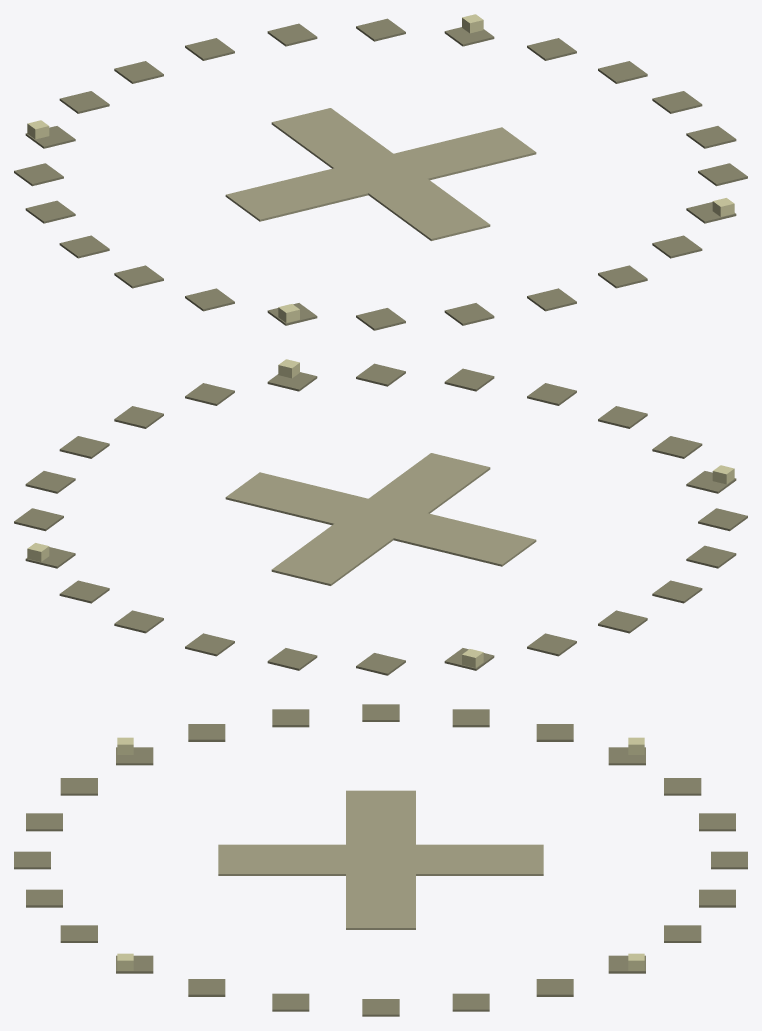
Rendered from lzpad.glb.
3 views of the same model, one above another, from view 1: azimuth 30°, elevation 25°; view 2: azimuth 150°, elevation 25°; view 3: azimuth 270°, elevation 25° (orthographic).
Visible parts, largest first — view 1: lzpad; view 2: lzpad; view 3: lzpad.
Boxes of the visible parts, x1=… form: lzpad: x1=14, y1=14, x2=747, y2=330; lzpad: x1=14, y1=359, x2=747, y2=675; lzpad: x1=14, y1=704, x2=747, y2=1016.
Bounding box in the file's own units: 31.6 × 0.6 × 31.6.
